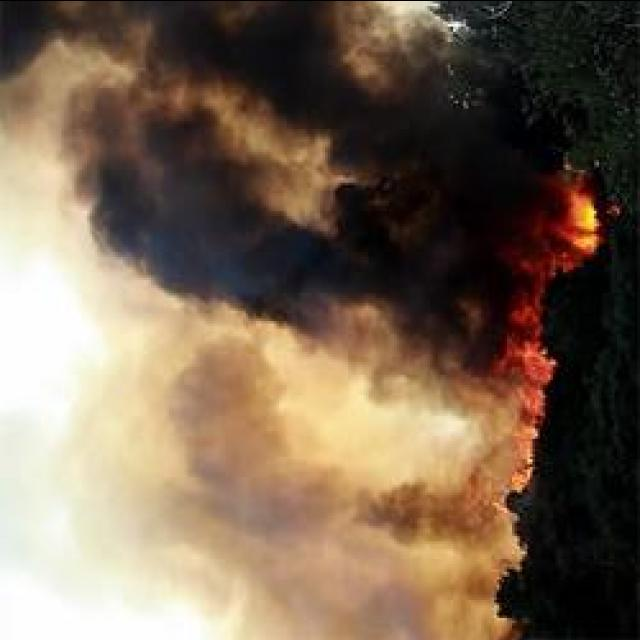fire: (510, 264, 562, 403), (554, 190, 608, 252)
smoke: (78, 140, 332, 328), (135, 0, 357, 104), (170, 350, 290, 526), (362, 235, 522, 334), (358, 470, 496, 540), (342, 568, 466, 632), (406, 152, 558, 203)
